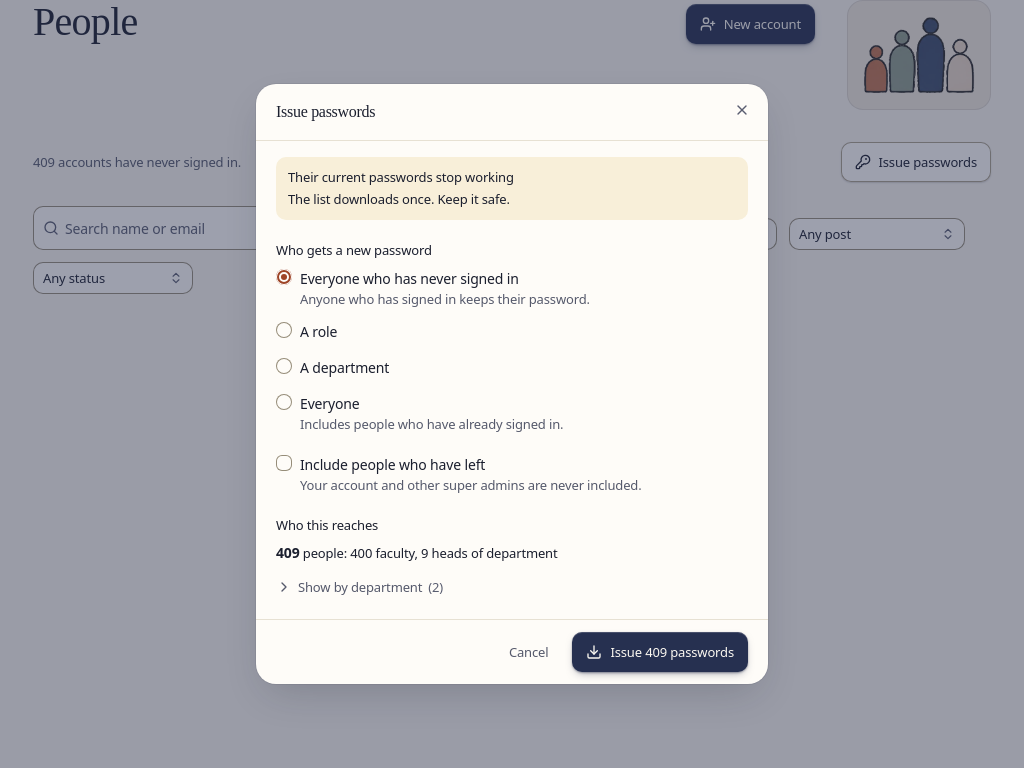
it: Issue passwords › downloads the file, then says it will not be shown again
The width and height of the screenshot is (1024, 768).
Click the button "Issue 409 passwords" at (660, 652), box [572,632,748,672]
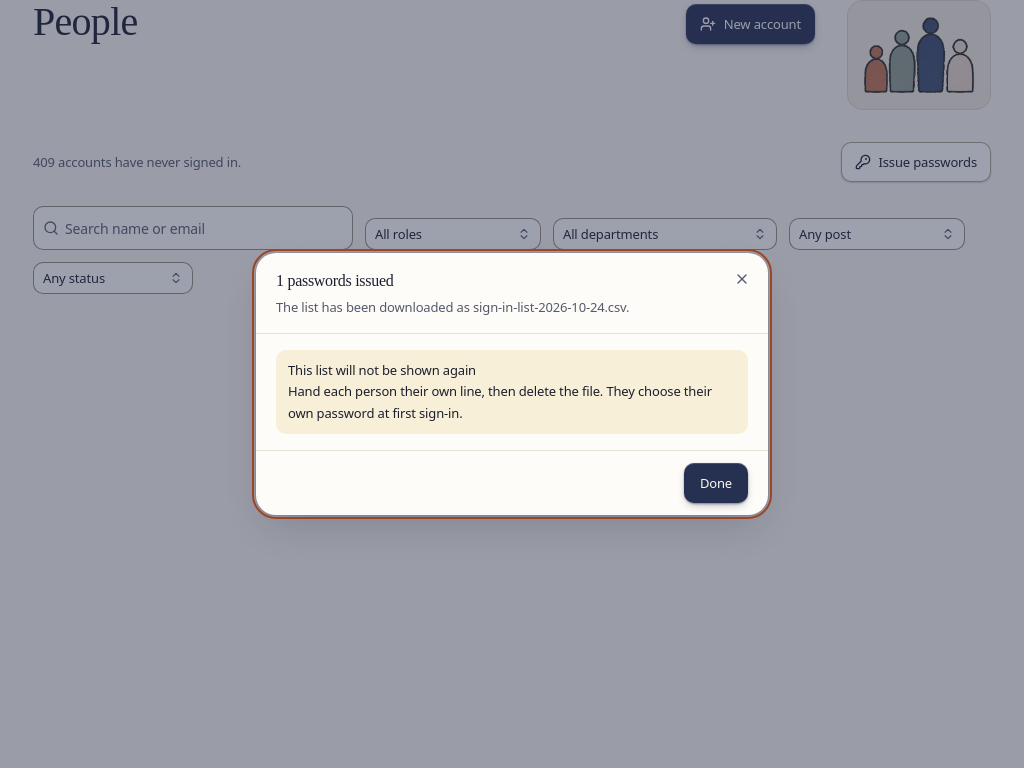
Expected: the text "This list will not be shown again" is shown, [288,361,476,379]
